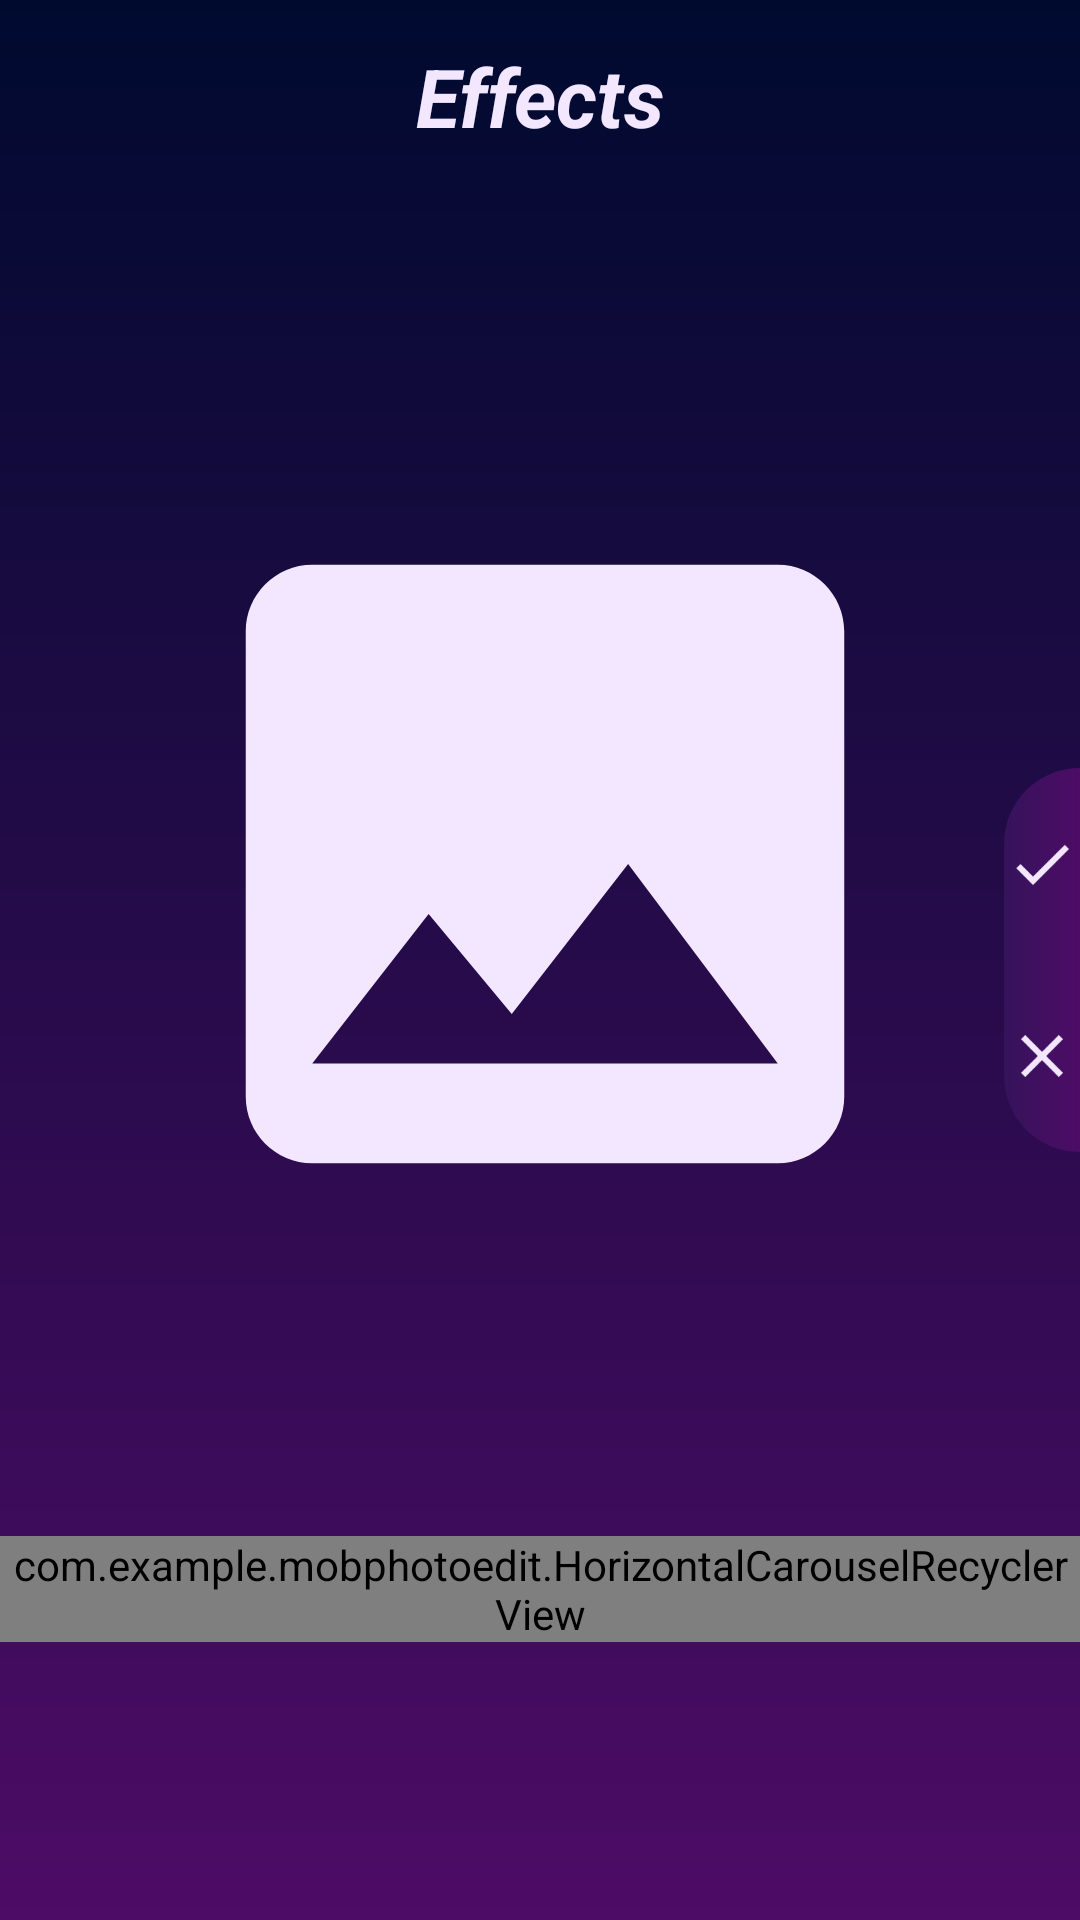

Named icons in this screenshot (1080w x 1920h) and their centers, point (x, y):
No: point (1050, 1056)
Yes: point (1048, 864)
